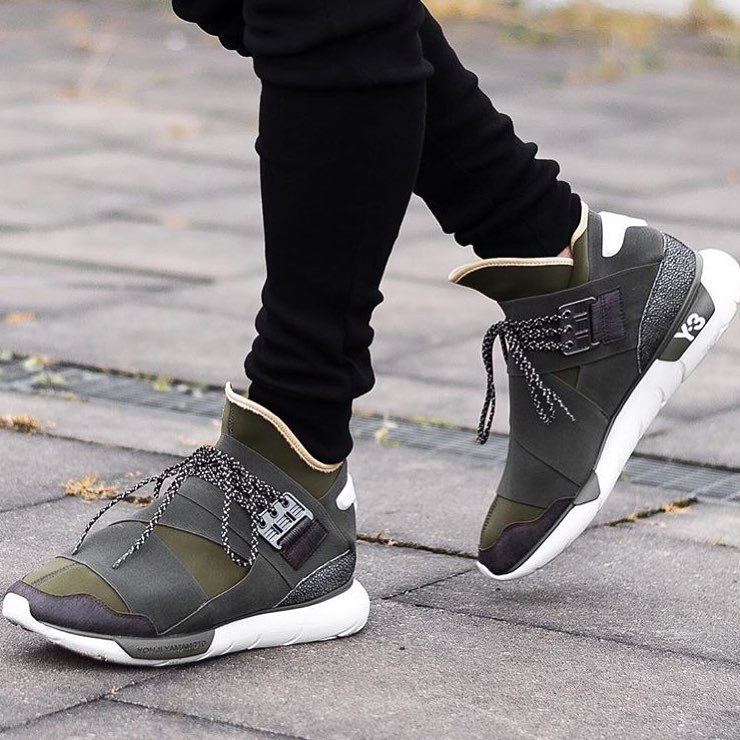sneaker: (432, 185, 740, 597), (1, 363, 391, 682)
